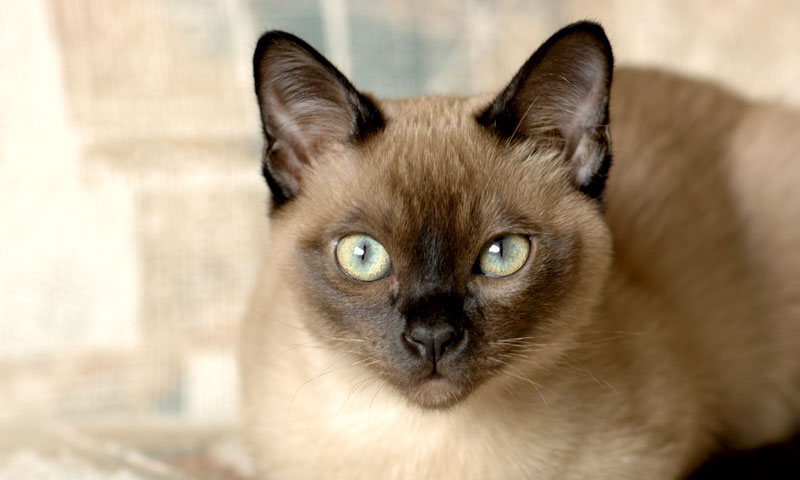cat: (192, 1, 784, 468)
